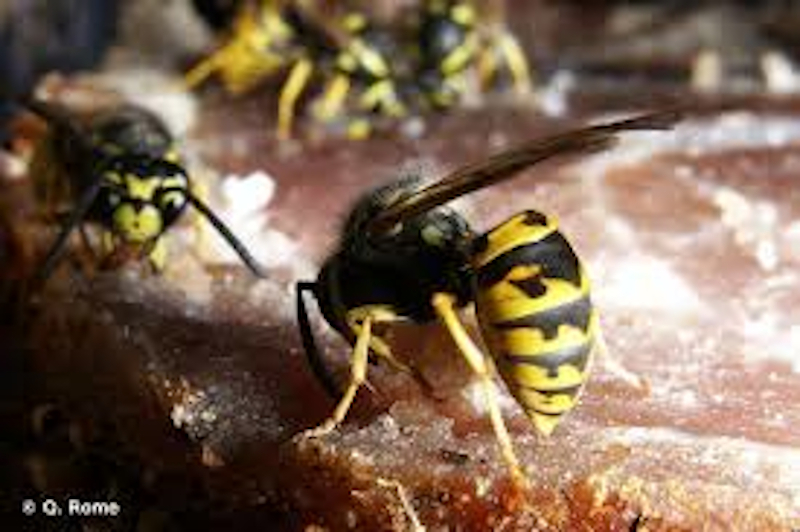chax: (275, 102, 685, 513), (10, 101, 269, 287)
